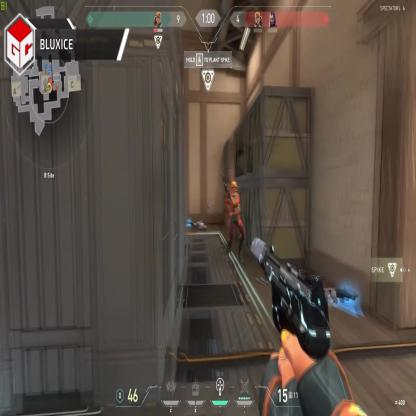enemy: (224, 180, 244, 264)
enemy_head: (230, 182, 238, 194)
